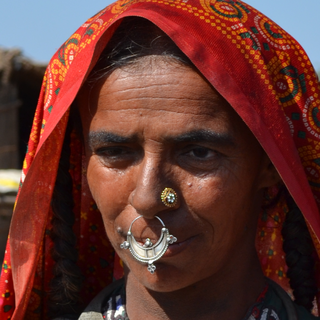eye: (168, 141, 225, 165), (92, 139, 139, 165)
